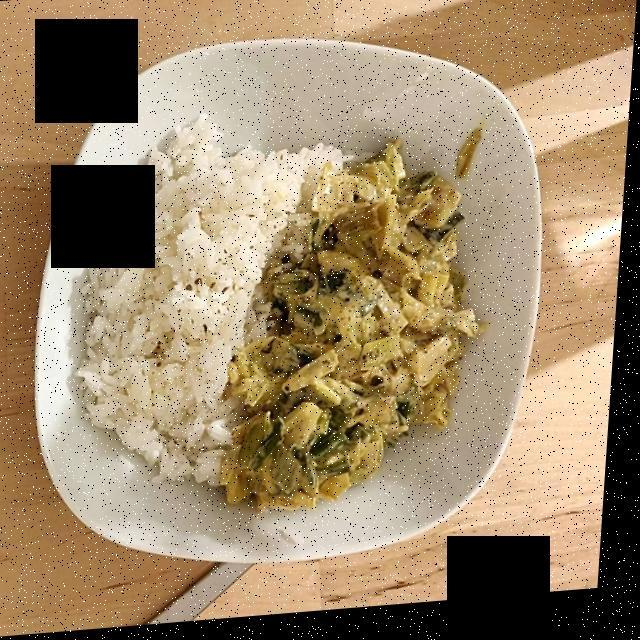leek: (245, 156, 480, 510)
rice: (84, 128, 314, 500)
